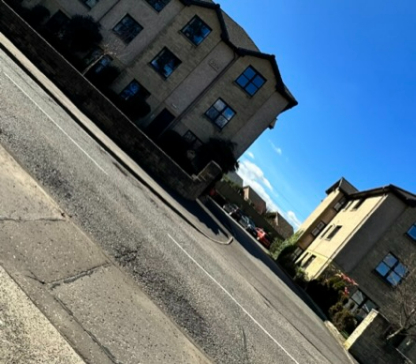car: (221, 200, 245, 229), (242, 214, 258, 238), (253, 228, 271, 248)
